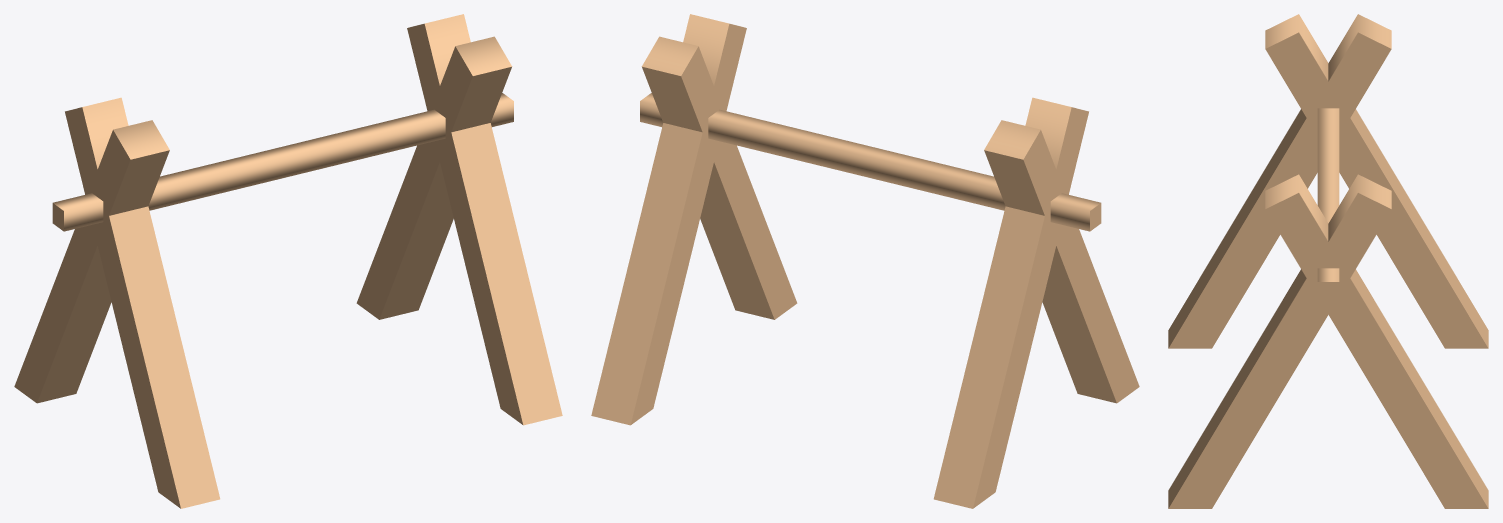
3 renders of one model, left to right at view 1: azimuth 30°, elevation 25°; view 2: azimuth 150°, elevation 25°; view 3: azimuth 270°, elevation 25°, orthographic. The views are drawn at different scales.
Visible parts, largest first — view 1: fishingStand; view 2: fishingStand; view 3: fishingStand.
Boxes of the visible parts, x1,y1,x2,y2 form: fishingStand: [14, 14, 562, 508]; fishingStand: [591, 14, 1139, 508]; fishingStand: [1168, 14, 1488, 508].
Bounding box in the file's own units: 0.3945 × 0.276 × 0.2533.
